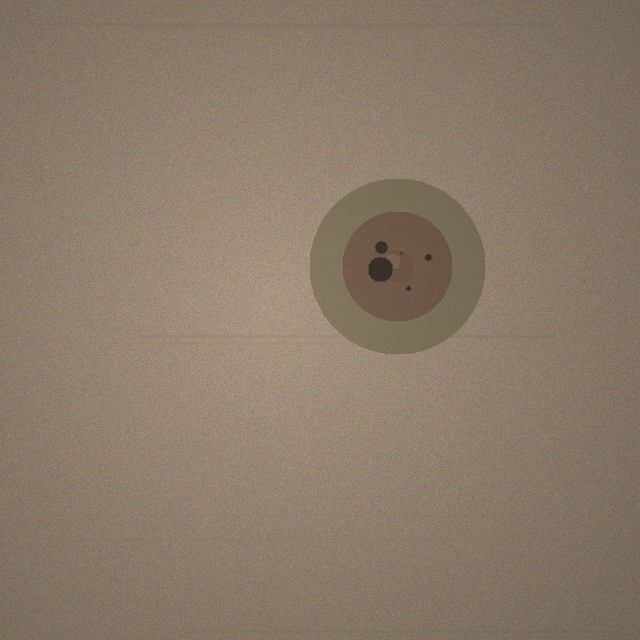shrinkage: (309, 178, 485, 354)
